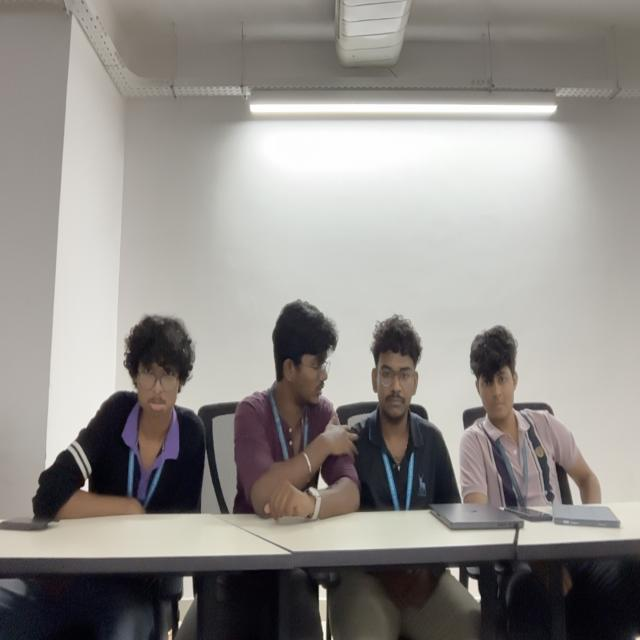Isolated: (33, 316, 206, 520), (460, 331, 611, 506)
socializing: (234, 298, 458, 508)
